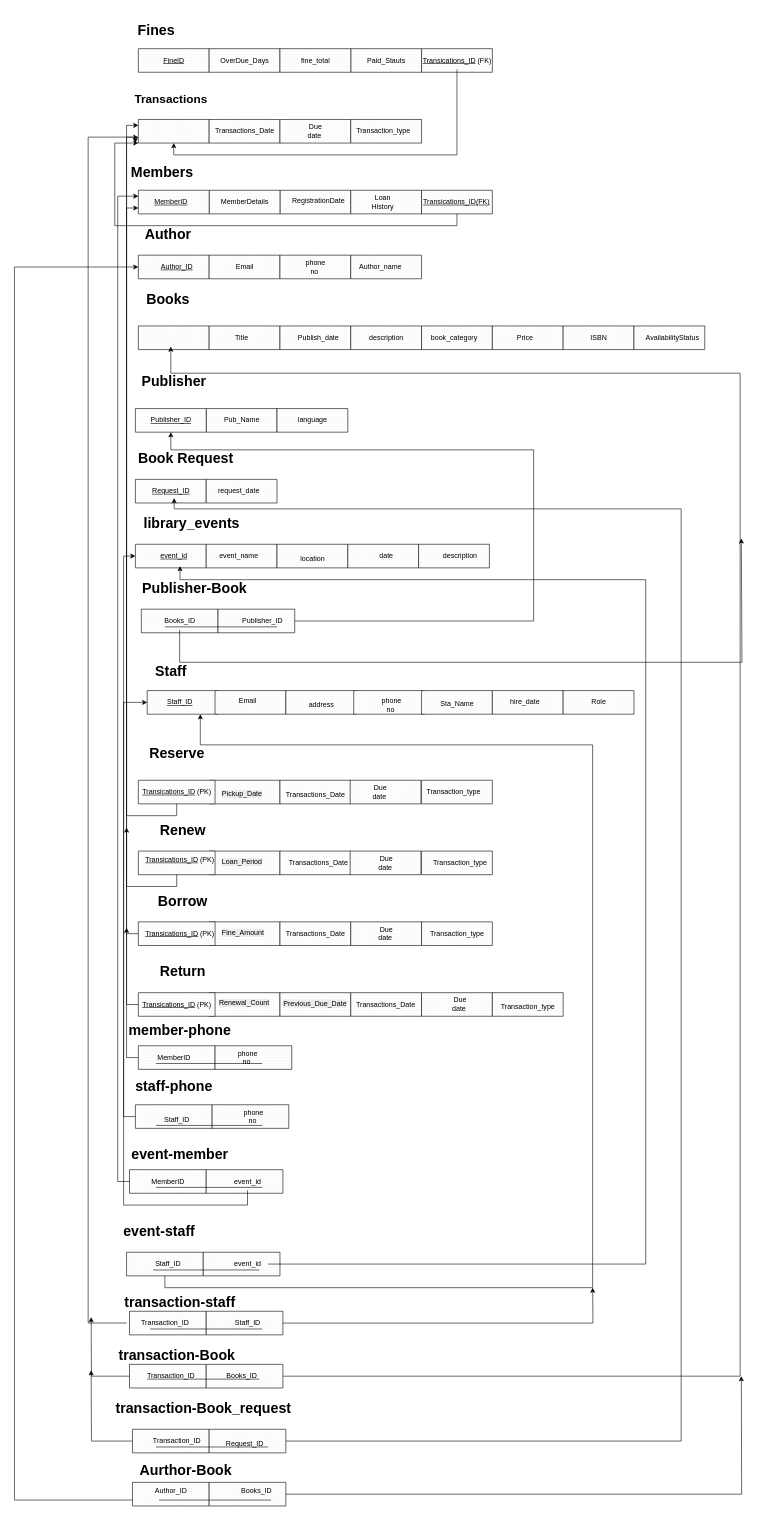
Some shapes in this 757 by 1516 pixel diagram are drawn without their labels. The centre of each missing label's shape, as x and y in pixels:
Books ID: (x=173, y=337)
Transications_ID: (x=173, y=131)
